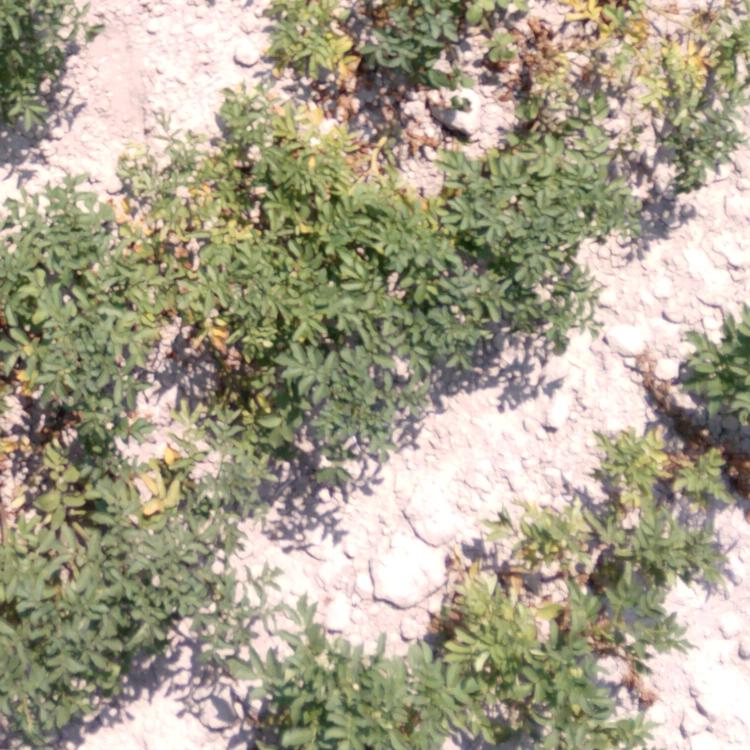healthy: (1, 516, 114, 748), (307, 248, 453, 423), (469, 157, 603, 304), (116, 516, 231, 655), (257, 647, 415, 747), (1, 1, 62, 137), (370, 1, 473, 69), (696, 306, 741, 432)
stressed: (430, 549, 635, 741), (1, 348, 169, 505), (123, 155, 255, 345), (258, 102, 441, 231), (532, 3, 716, 107), (589, 442, 719, 549), (178, 347, 278, 445), (261, 1, 354, 95)
